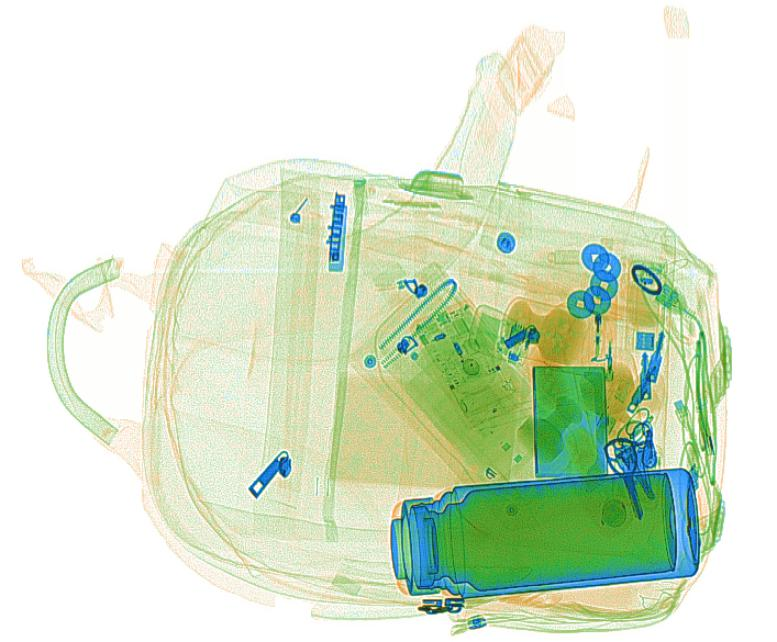lighter: (579, 282, 615, 385)
seal: (498, 295, 593, 366), (571, 360, 641, 450), (515, 392, 579, 464)
